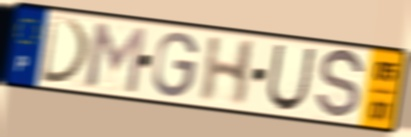D: (38, 13, 94, 87)
G: (150, 30, 201, 100)
H: (197, 34, 259, 108)
M: (84, 19, 149, 97)
S: (313, 47, 367, 123)
U: (264, 42, 318, 113)
